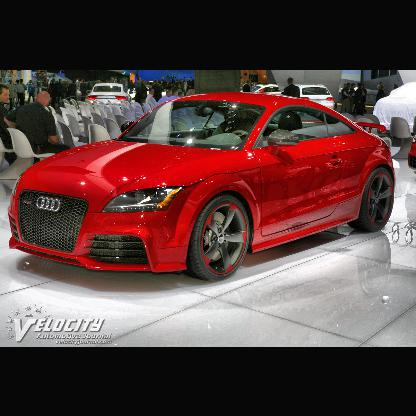Audi TT RS Coupe 2012: (6, 91, 398, 284)
